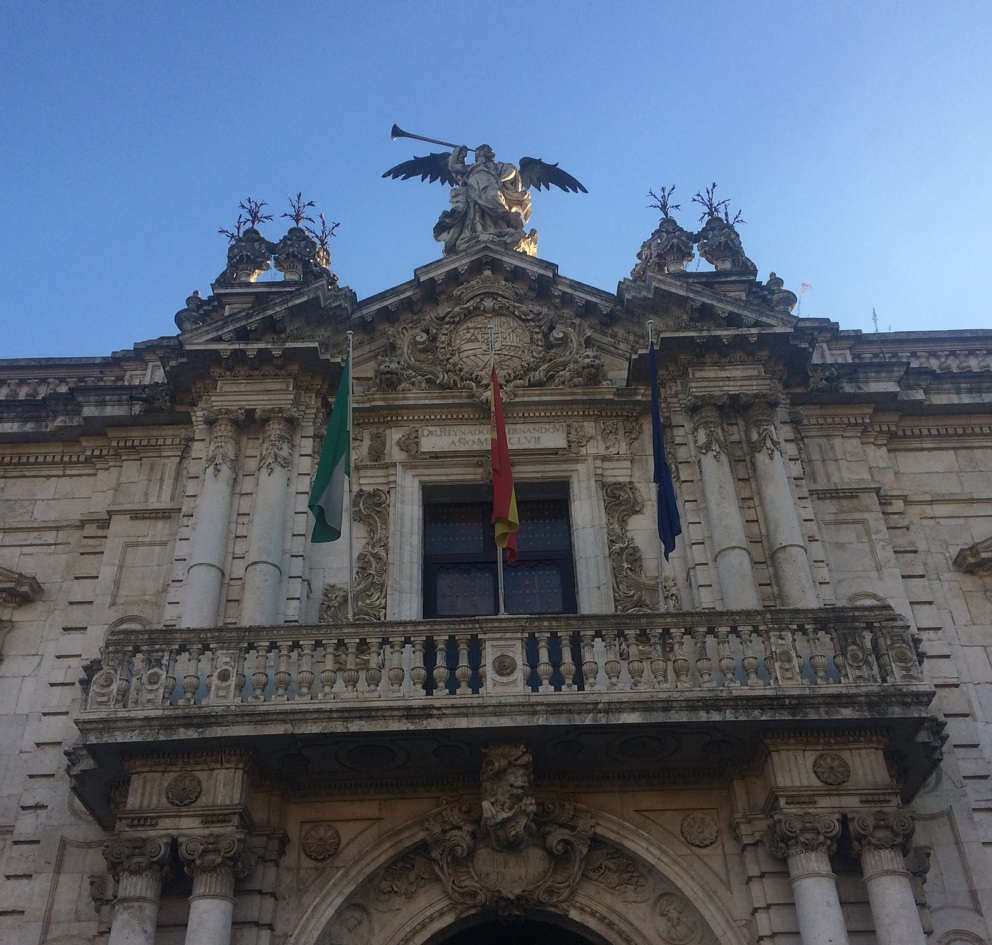fronton-partido: (169, 244, 804, 357)
vano-adintelado: (382, 452, 627, 701)
